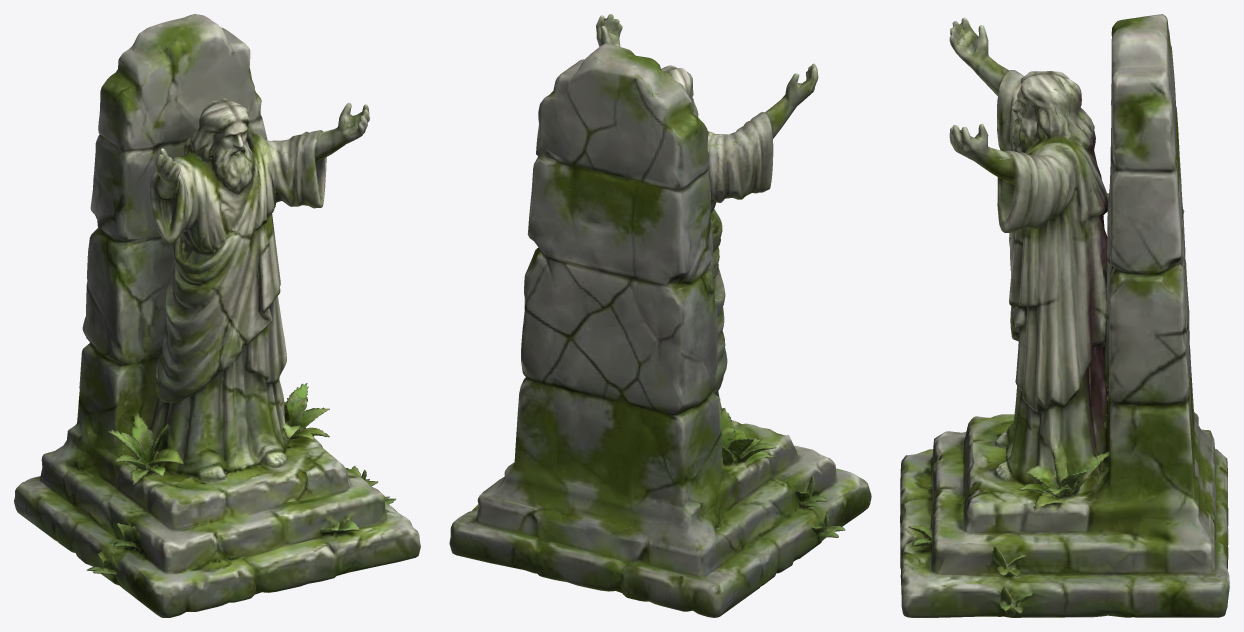
File: monument.glb
3 views of the same model, side by side, from view 1: azimuth 30°, elevation 25°; view 2: azimuth 150°, elevation 25°; view 3: azimuth 270°, elevation 25° (orthographic). The views are drawn at different scales.
Parts seen in each view (by area): view 1: Mesh_0; view 2: Mesh_0; view 3: Mesh_0.
Part boxes in pixels (x1=…): Mesh_0: x1=14, y1=14, x2=420, y2=617; Mesh_0: x1=449, y1=14, x2=871, y2=617; Mesh_0: x1=900, y1=14, x2=1229, y2=617.
Size of the model in its own units: 1.24 by 1.9 by 1.07.
1 material, 1 textured.
